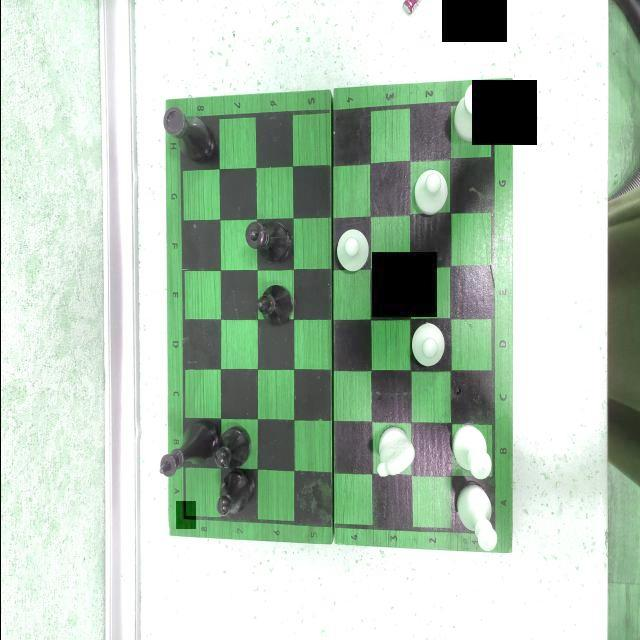chess-table-corners: (175, 501, 195, 529), (488, 90, 502, 110)
